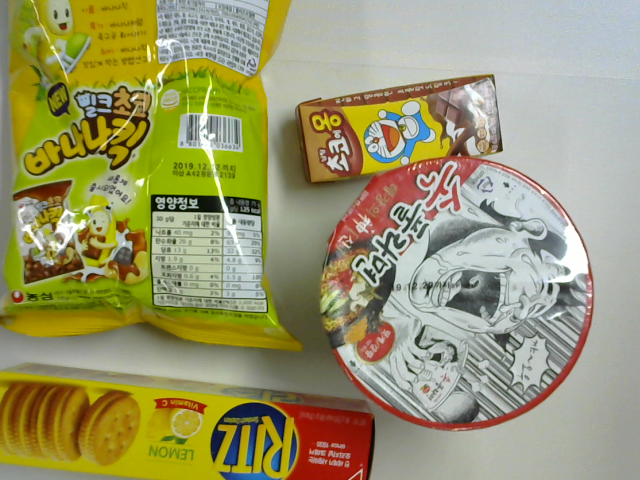Banana_Kick: (26, 1, 281, 334)
Choco_E_Mong: (288, 66, 502, 197)
Hejangpul: (297, 158, 579, 413)
Ritz_Remon_96g: (1, 374, 375, 474)
